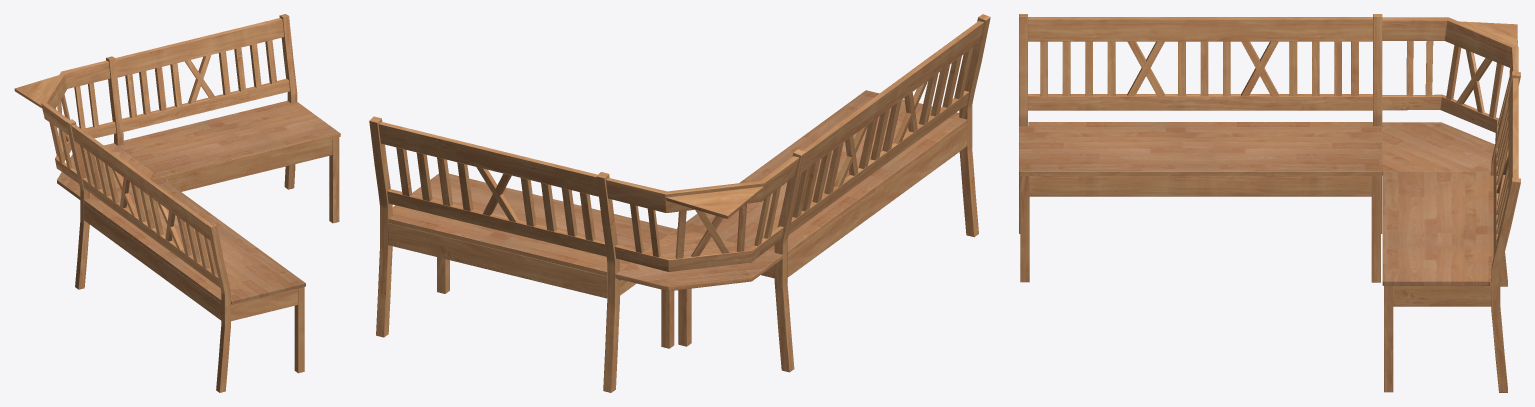
File: abo-B07SMJY2BJ.glb
3 views of the same model, side by side, from view 1: azimuth 30°, elevation 25°; view 2: azimuth 150°, elevation 25°; view 3: azimuth 270°, elevation 25° (orthographic). The views are drawn at different scales.
Size of the model in its own units: 1.54 by 0.902 by 1.94.
Materials: 1 (1 with a texture image).
